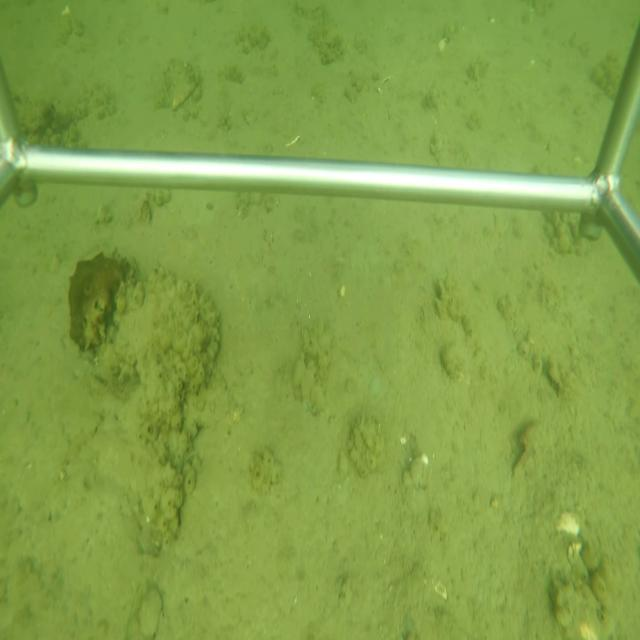Oyster-Indeterminate: (168, 79, 196, 112)
